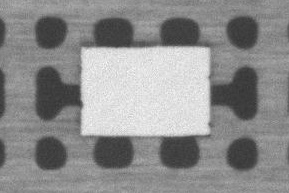DIE_BROKEN: (79, 99, 85, 110)
